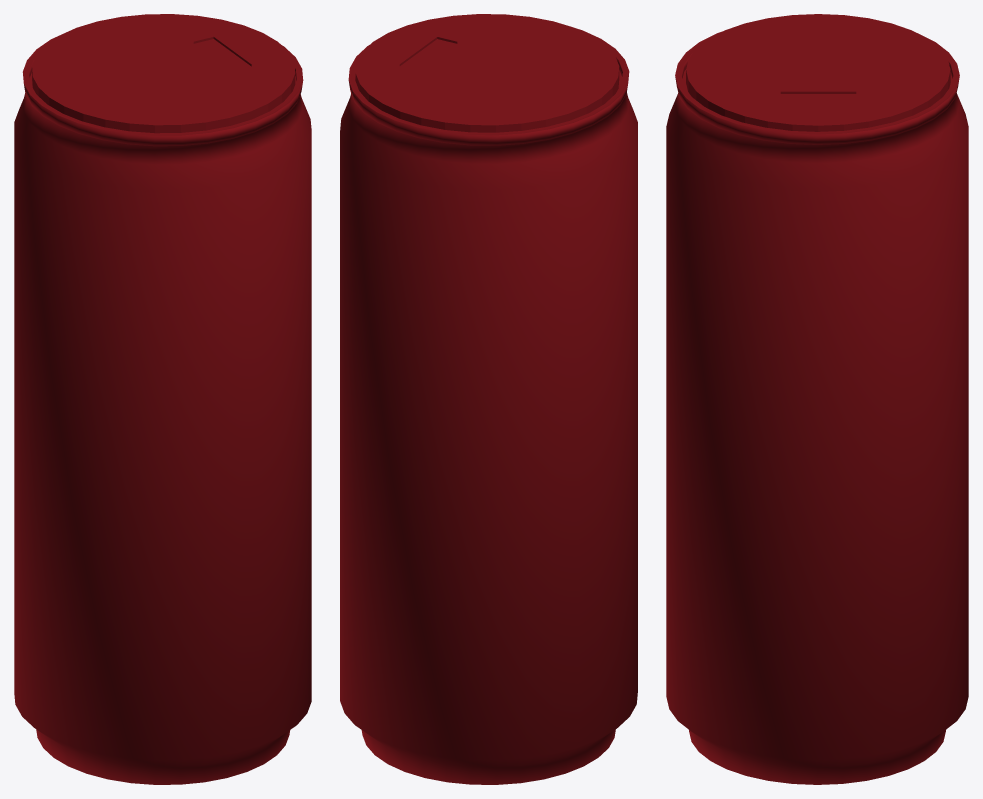
The model's file is puszka.fbx.
3 renders of one model, left to right at view 1: azimuth 30°, elevation 25°; view 2: azimuth 150°, elevation 25°; view 3: azimuth 270°, elevation 25°, orthographic.
Parts seen in each view (by area): view 1: puszka.001; view 2: puszka.001; view 3: puszka.001.
Boxes of the visible parts, x1=… form: puszka.001: x1=14, y1=14, x2=311, y2=784; puszka.001: x1=340, y1=14, x2=637, y2=784; puszka.001: x1=666, y1=14, x2=968, y2=784.
Size of the model in its own units: 183 by 450 by 185.
